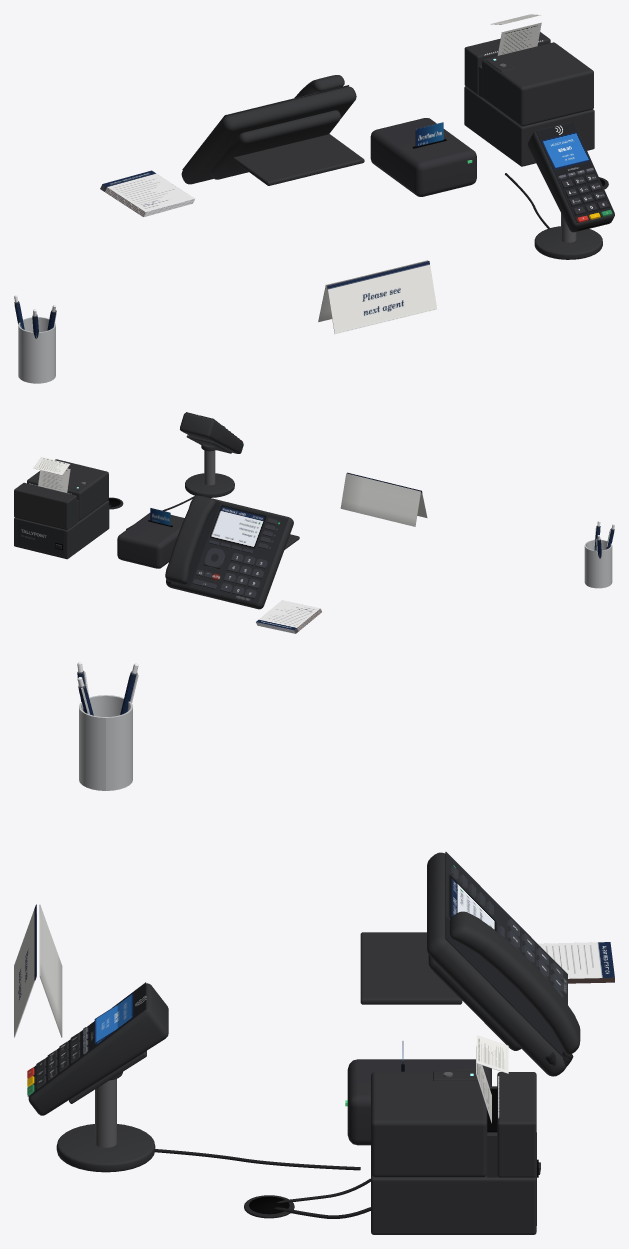
File: hotel-desk-closed.glb
3 renders of one model, top to bottom at view 1: azimuth 30°, elevation 25°; view 2: azimuth 150°, elevation 25°; view 3: azimuth 270°, elevation 25°, orthographic. The views are drawn at different scales.
Visible parts, largest first — view 1: gear_plastic, take_tent_card, black_plastic, lobby_0.0, desk_face, brushed_metal, desk_lit; view 2: gear_plastic, desk_face, take_tent_card, lobby_0.0, black_plastic, desk_lit, brushed_metal, charcoal; view 3: gear_plastic, desk_face, brushed_metal, lobby_0.0, take_tent_card, black_plastic, cable, desk_lit, charcoal, slot_dark.
Boxes of the visible parts, x1,y1,x2,y2 form: gear_plastic: (181,32,614,259); take_tent_card: (318,260,436,333); black_plastic: (370,118,476,196); lobby_0.0: (100,14,541,217); desk_face: (182,85,614,222); brushed_metal: (18,317,55,383); desk_lit: (547,144,590,168); gear_plastic: (14,412,299,609); desk_face: (17,412,288,603); take_tent_card: (340,472,427,526); lobby_0.0: (33,457,321,633); black_plastic: (55,513,184,568); desk_lit: (209,426,266,548); brushed_metal: (584,539,612,588); charcoal: (81,450,215,485); gear_plastic: (28,852,580,1234); desk_face: (27,852,567,1225); brushed_metal: (79,695,132,790); lobby_0.0: (402,942,614,1123); take_tent_card: (14,904,62,1037); black_plastic: (347,1059,540,1174); cable: (155,1051,573,1218); desk_lit: (94,874,496,1043); charcoal: (95,1072,452,1147); slot_dark: (249,1064,538,1214).
Bounding box in the file's own units: 1.3 × 0.2198 × 0.7085.
14 materials, 3 textured.
